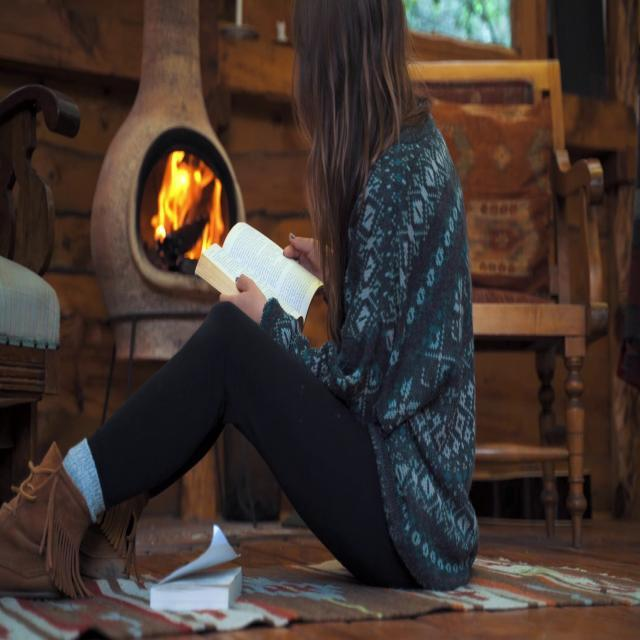Fire: (148, 145, 222, 254)
